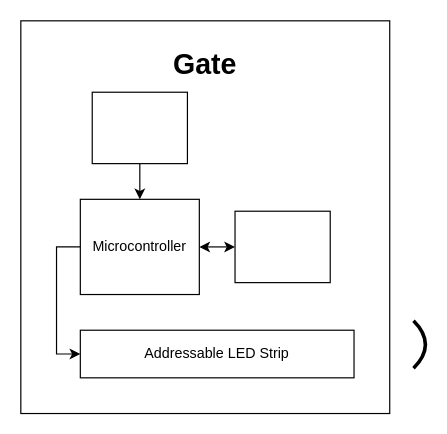
This 447x434 diagram has some shape labels left out. Each missing label, with the box of its shape:
Gate Intrusion Sensor: (91, 91, 187, 164)
Packet Radio Module: (234, 210, 330, 283)
